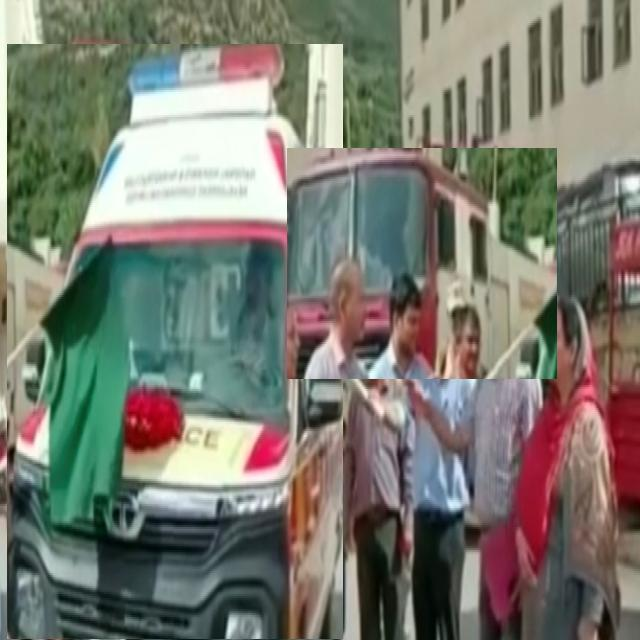emergency: (8, 44, 343, 639)
truck: (288, 149, 557, 379)
